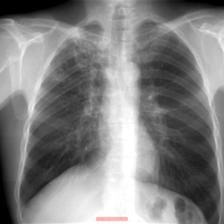tuberculosis: (14, 13, 224, 223)
